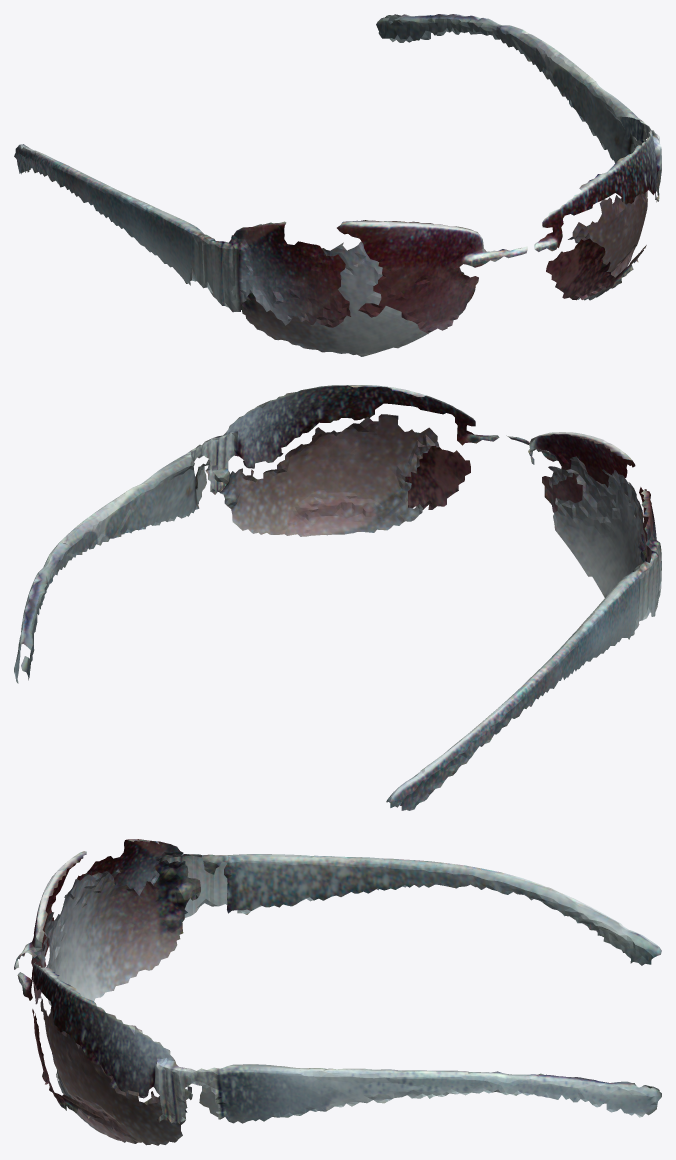
File: scan_align.obj
The picture shows the model from 3 angles, top to bottom: view 1: azimuth 30°, elevation 25°; view 2: azimuth 150°, elevation 25°; view 3: azimuth 270°, elevation 25°; orthographic projection. The views are drawn at different scales.
Size of the model in its own units: 0.1426 by 0.0413 by 0.1655.
Materials: 1 (1 with a texture image).
